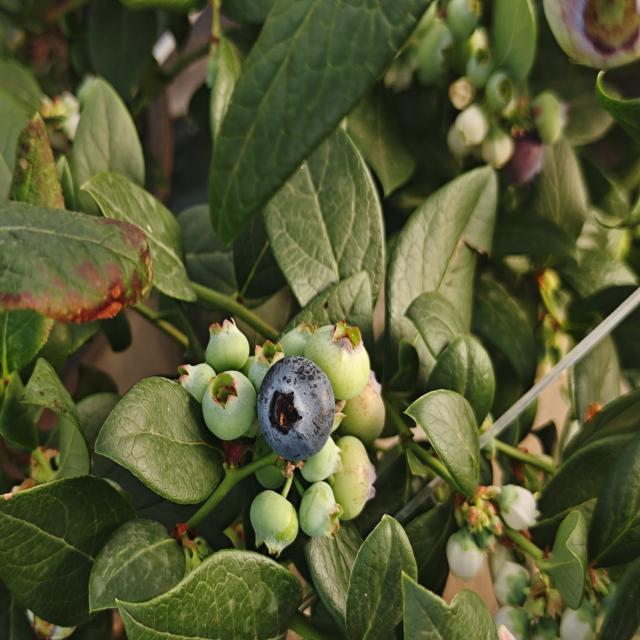ripe: (255, 353, 337, 466)
